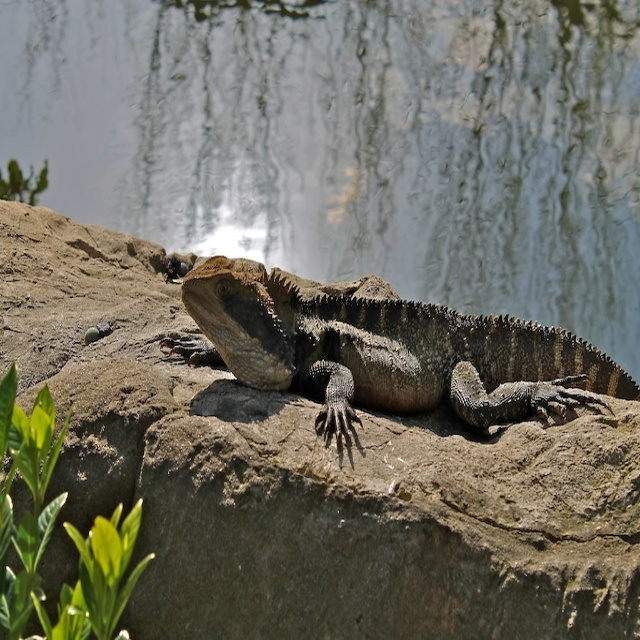Lizard: (182, 254, 639, 445)
